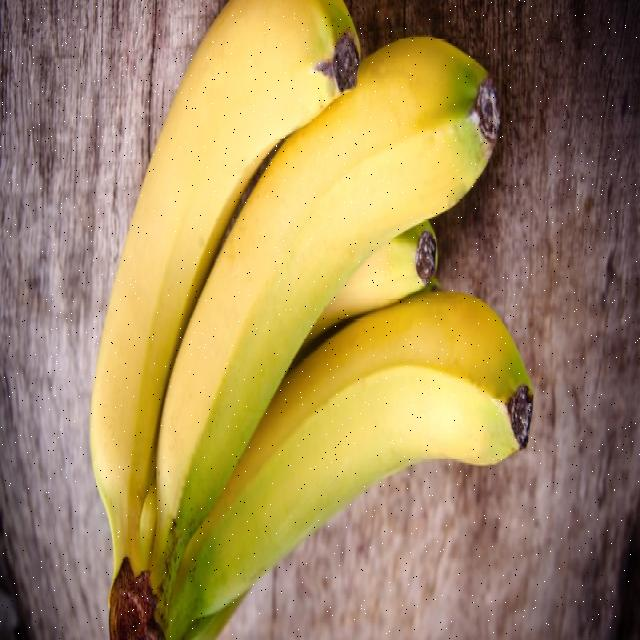Pisang: (88, 3, 533, 640), (149, 288, 534, 640)
